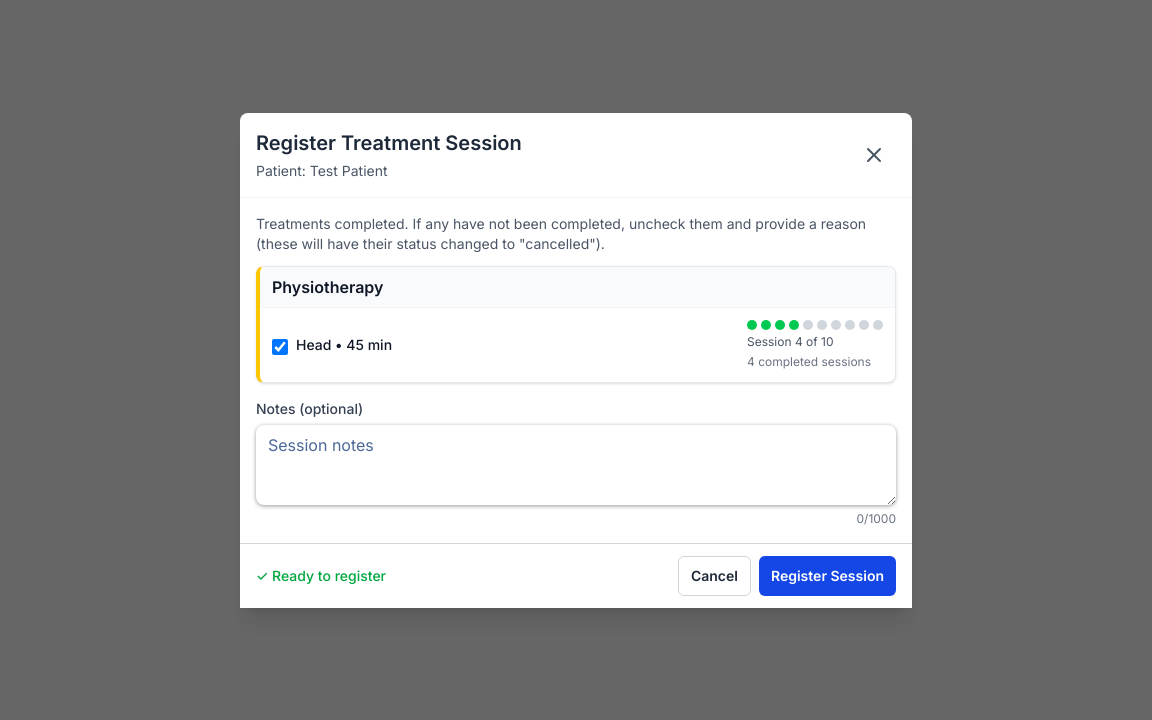
PostTreatmentModal › Rows and interactions › should show reason textarea when row is unchecked
What coordinates should you click on to do the following:
click the checkbox
I would click on:
 (280, 346)
Its box is [272,338,288,354].
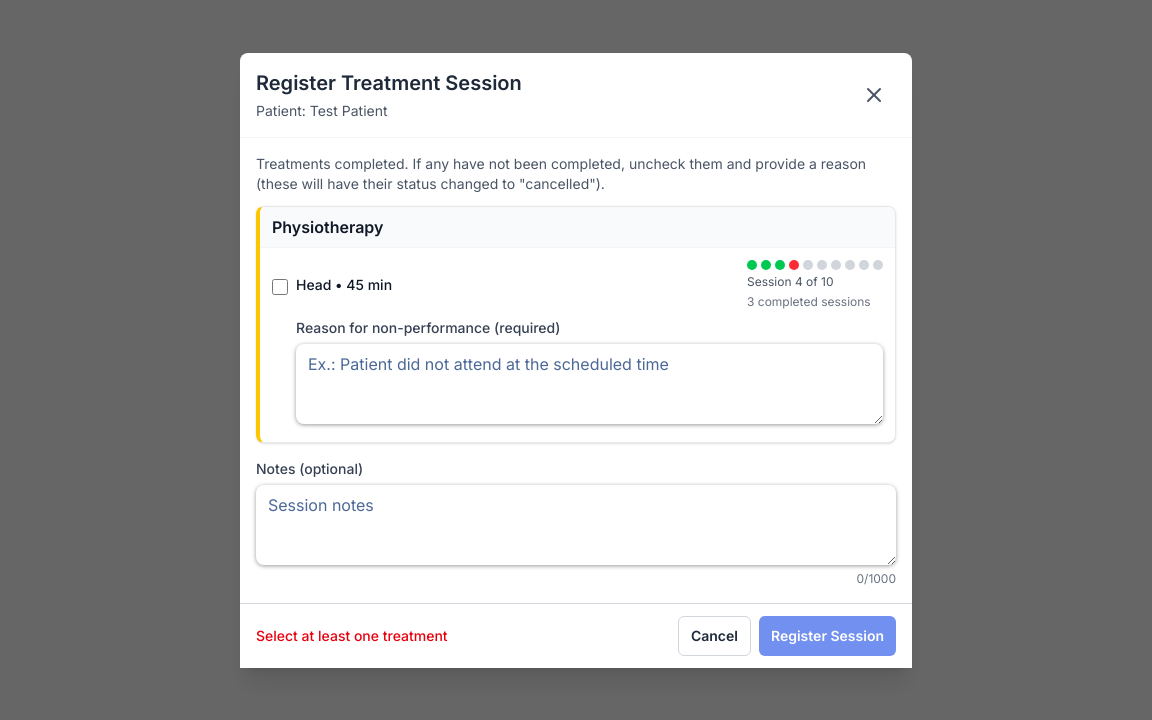
Result: the text box labelled "Reason for non-performance (required)" is shown at [296,344,883,424]
